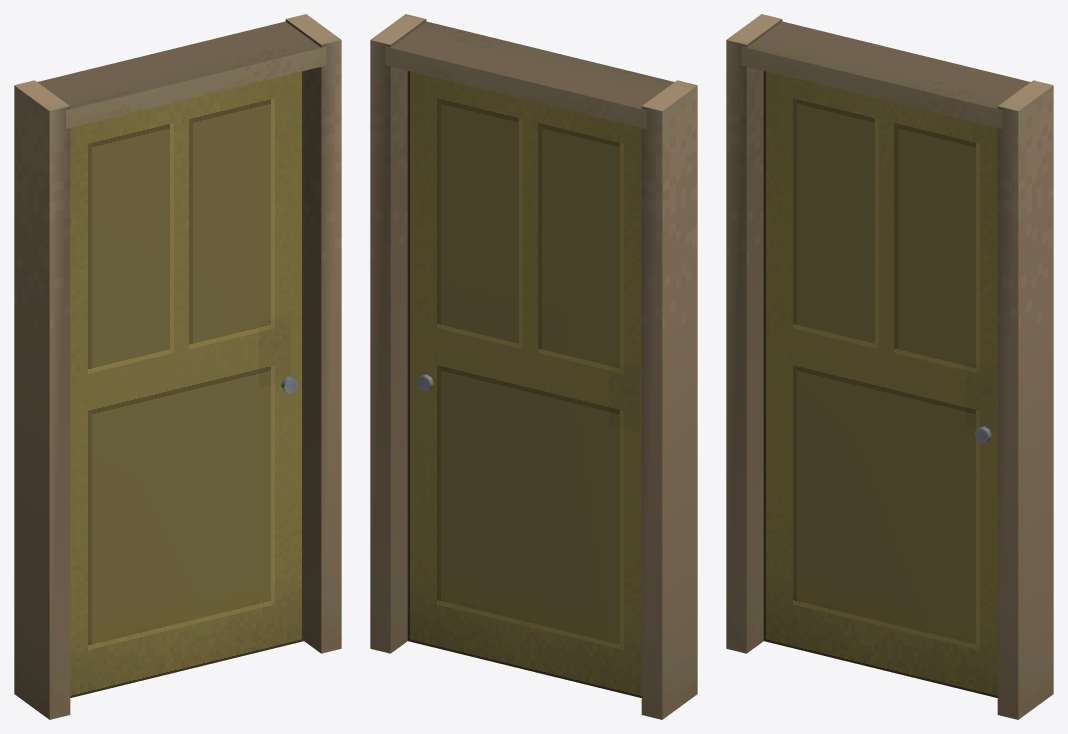
File: door-yellow.glb
The picture shows the model from 3 angles, left to right: view 1: azimuth 30°, elevation 25°; view 2: azimuth 150°, elevation 25°; view 3: azimuth 330°, elevation 25°; orthographic projection.
Visible parts, largest first — view 1: door_yellow_leaf, door_yellow, door_yellow_casing_r, door_yellow_casing_top; view 2: door_yellow_leaf, door_yellow, door_yellow_casing_r, door_yellow_casing_top; view 3: door_yellow_leaf, door_yellow_casing_r, door_yellow, door_yellow_casing_top.
Part boxes in pixels (left/top/right/bottom): door_yellow_leaf: left=70, top=71, right=304, bottom=697; door_yellow: left=14, top=80, right=70, bottom=719; door_yellow_casing_r: left=285, top=14, right=341, bottom=653; door_yellow_casing_top: left=37, top=21, right=326, bottom=128; door_yellow_leaf: left=407, top=71, right=641, bottom=697; door_yellow: left=641, top=80, right=697, bottom=719; door_yellow_casing_r: left=370, top=14, right=426, bottom=653; door_yellow_casing_top: left=385, top=21, right=674, bottom=128; door_yellow_leaf: left=763, top=71, right=997, bottom=697; door_yellow_casing_r: left=997, top=80, right=1053, bottom=719; door_yellow: left=726, top=14, right=782, bottom=653; door_yellow_casing_top: left=741, top=21, right=1030, bottom=128.
Size of the model in its own units: 1.14 by 2.27 by 0.244.
1 material, 1 textured.
